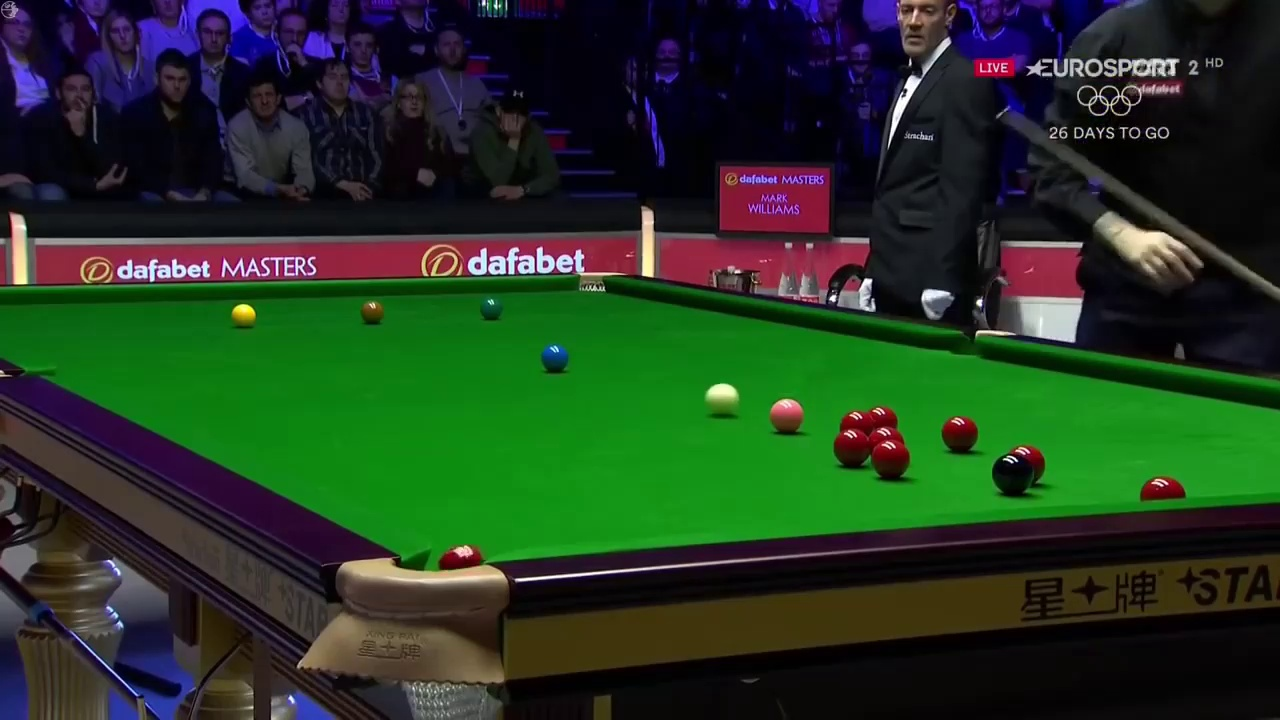ball: (991, 454, 1035, 495), (870, 439, 911, 478), (831, 431, 869, 465), (769, 398, 804, 431), (942, 418, 978, 449), (705, 382, 738, 415), (541, 345, 569, 371), (229, 302, 256, 327), (478, 296, 506, 319), (358, 299, 385, 320)
